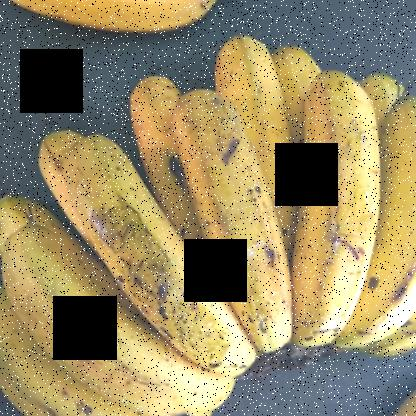ripe: (1, 214, 241, 415), (51, 128, 241, 350), (279, 64, 381, 359), (177, 85, 290, 338), (366, 95, 415, 363)
